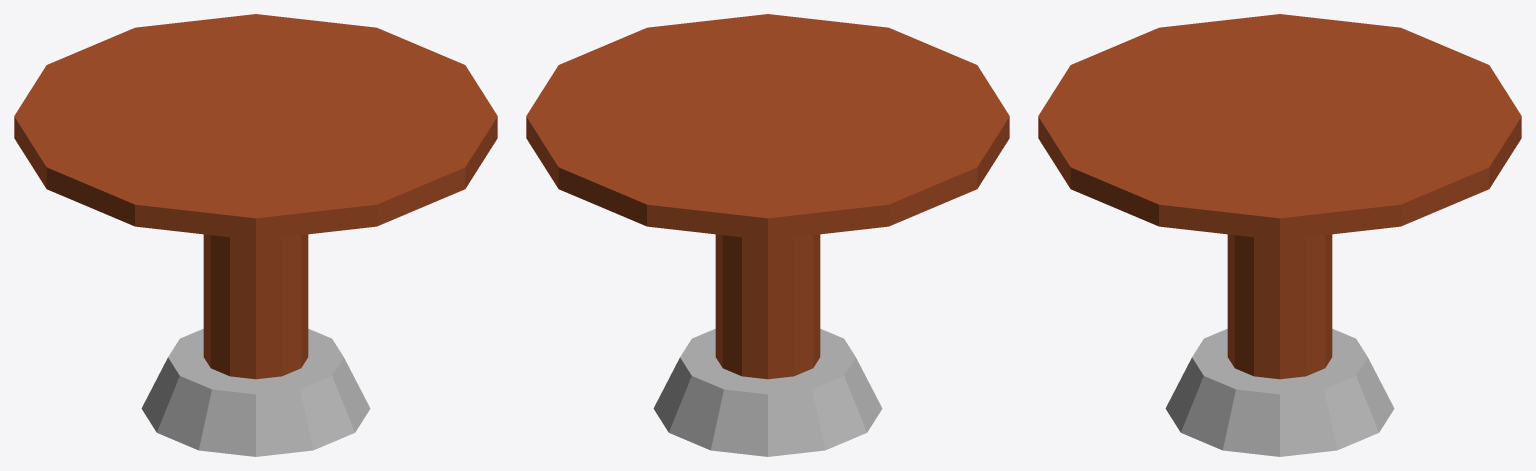
The model's file is table2.fbx.
3 views of the same model, side by side, from view 1: azimuth 30°, elevation 25°; view 2: azimuth 150°, elevation 25°; view 3: azimuth 270°, elevation 25° (orthographic).
Visible parts, largest first — view 1: Cylinder.006; view 2: Cylinder.006; view 3: Cylinder.006.
Part boxes in pixels (left/top/right/bottom): Cylinder.006: left=14, top=14, right=497, bottom=456; Cylinder.006: left=526, top=14, right=1009, bottom=456; Cylinder.006: left=1038, top=14, right=1521, bottom=456.
Size of the model in its own units: 200 by 133 by 200.
Materials: 1 (1 with a texture image).
